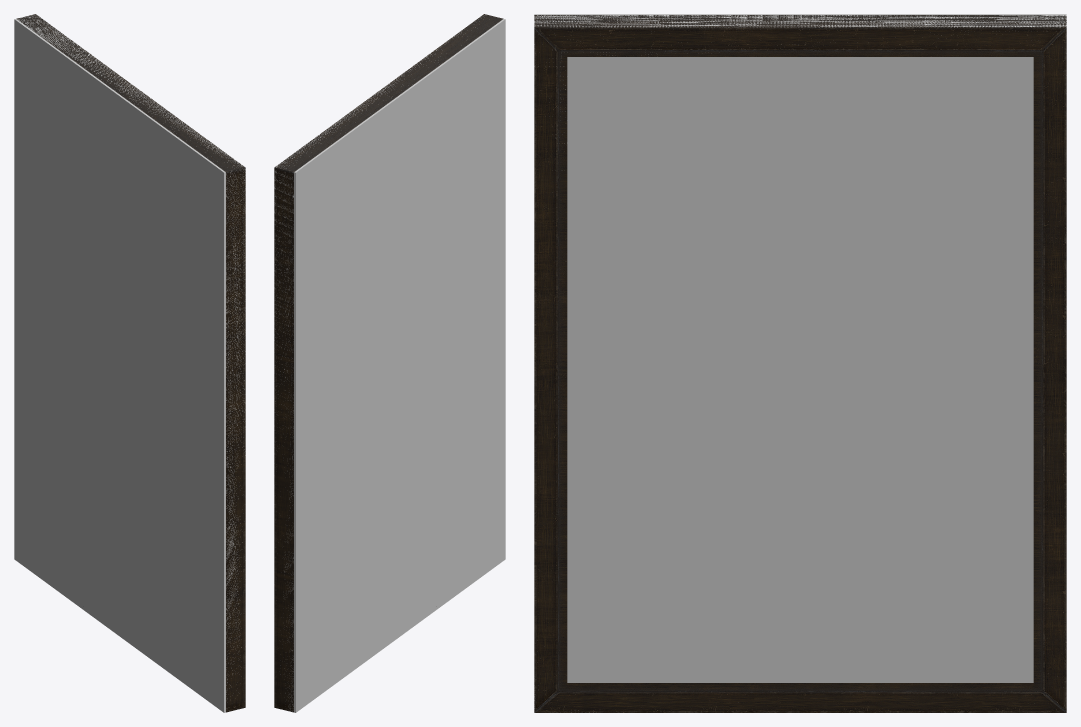
Rendered from SM_Billboard_B.fbx.
3 views of the same model, side by side, from view 1: azimuth 30°, elevation 25°; view 2: azimuth 150°, elevation 25°; view 3: azimuth 270°, elevation 25° (orthographic). The views are drawn at different scales.
Visible parts, largest first — view 1: SM_Billboard_B_ConvexHulls, SM_Billboard_B_LOD0; view 2: SM_Billboard_B_ConvexHulls, SM_Billboard_B_LOD0; view 3: SM_Billboard_B_ConvexHulls, SM_Billboard_B_LOD0.
Part boxes in pixels (x1,y1,x2,y2): SM_Billboard_B_ConvexHulls: (14, 14, 245, 712); SM_Billboard_B_LOD0: (16, 14, 245, 712); SM_Billboard_B_ConvexHulls: (274, 17, 505, 712); SM_Billboard_B_LOD0: (274, 14, 503, 712); SM_Billboard_B_ConvexHulls: (534, 14, 1066, 712); SM_Billboard_B_LOD0: (534, 15, 1066, 712).
Size of the model in its own units: 7.04 by 119 by 170.
